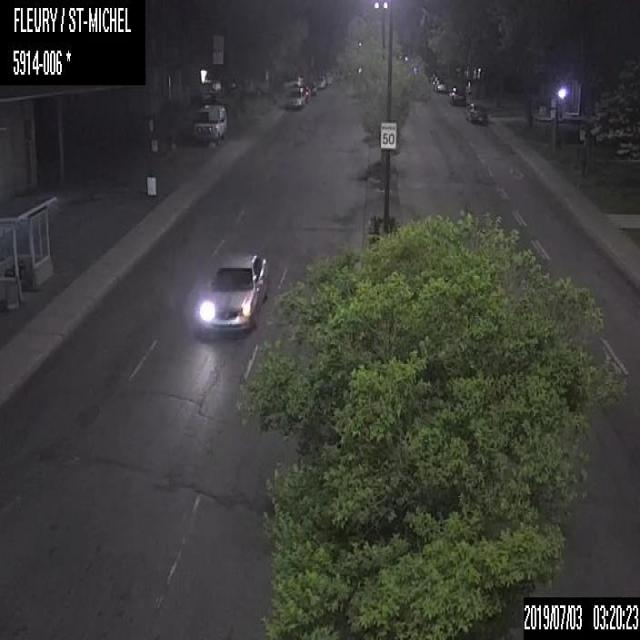vehicle: (192, 251, 270, 333), (190, 101, 228, 146), (447, 85, 469, 106), (467, 100, 487, 122), (287, 88, 305, 111), (433, 78, 450, 94)
